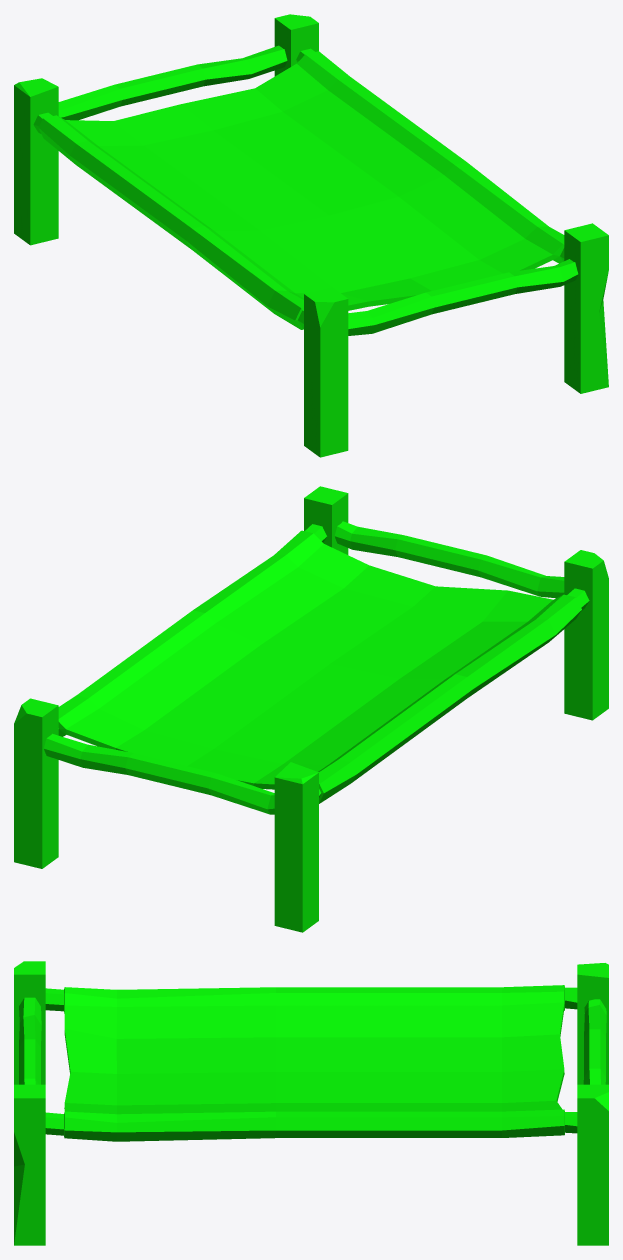
Rendered from SM_Bed_Single_Fabric_A_Fantasy.fbx.
The picture shows the model from 3 angles, top to bottom: view 1: azimuth 30°, elevation 25°; view 2: azimuth 150°, elevation 25°; view 3: azimuth 270°, elevation 25°; orthographic projection. The views are drawn at different scales.
Parts seen in each view (by area): view 1: bed-single-fabric-a-fantasy; view 2: bed-single-fabric-a-fantasy; view 3: bed-single-fabric-a-fantasy.
Boxes of the visible parts, x1,y1,x2,y2 form: bed-single-fabric-a-fantasy: [14, 14, 608, 457]; bed-single-fabric-a-fantasy: [14, 486, 608, 932]; bed-single-fabric-a-fantasy: [14, 961, 608, 1245].
Size of the model in its own units: 1.18 by 0.591 by 2.16.
